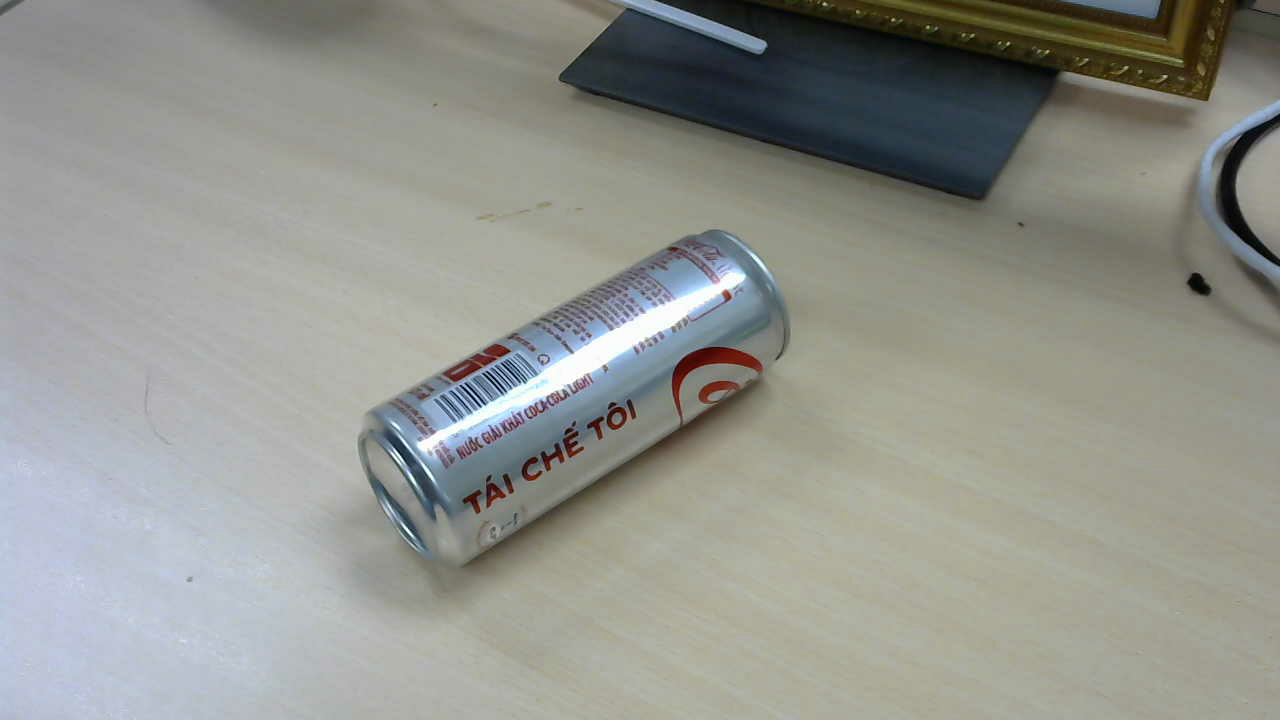Coca_Cola: (359, 231, 797, 577)
